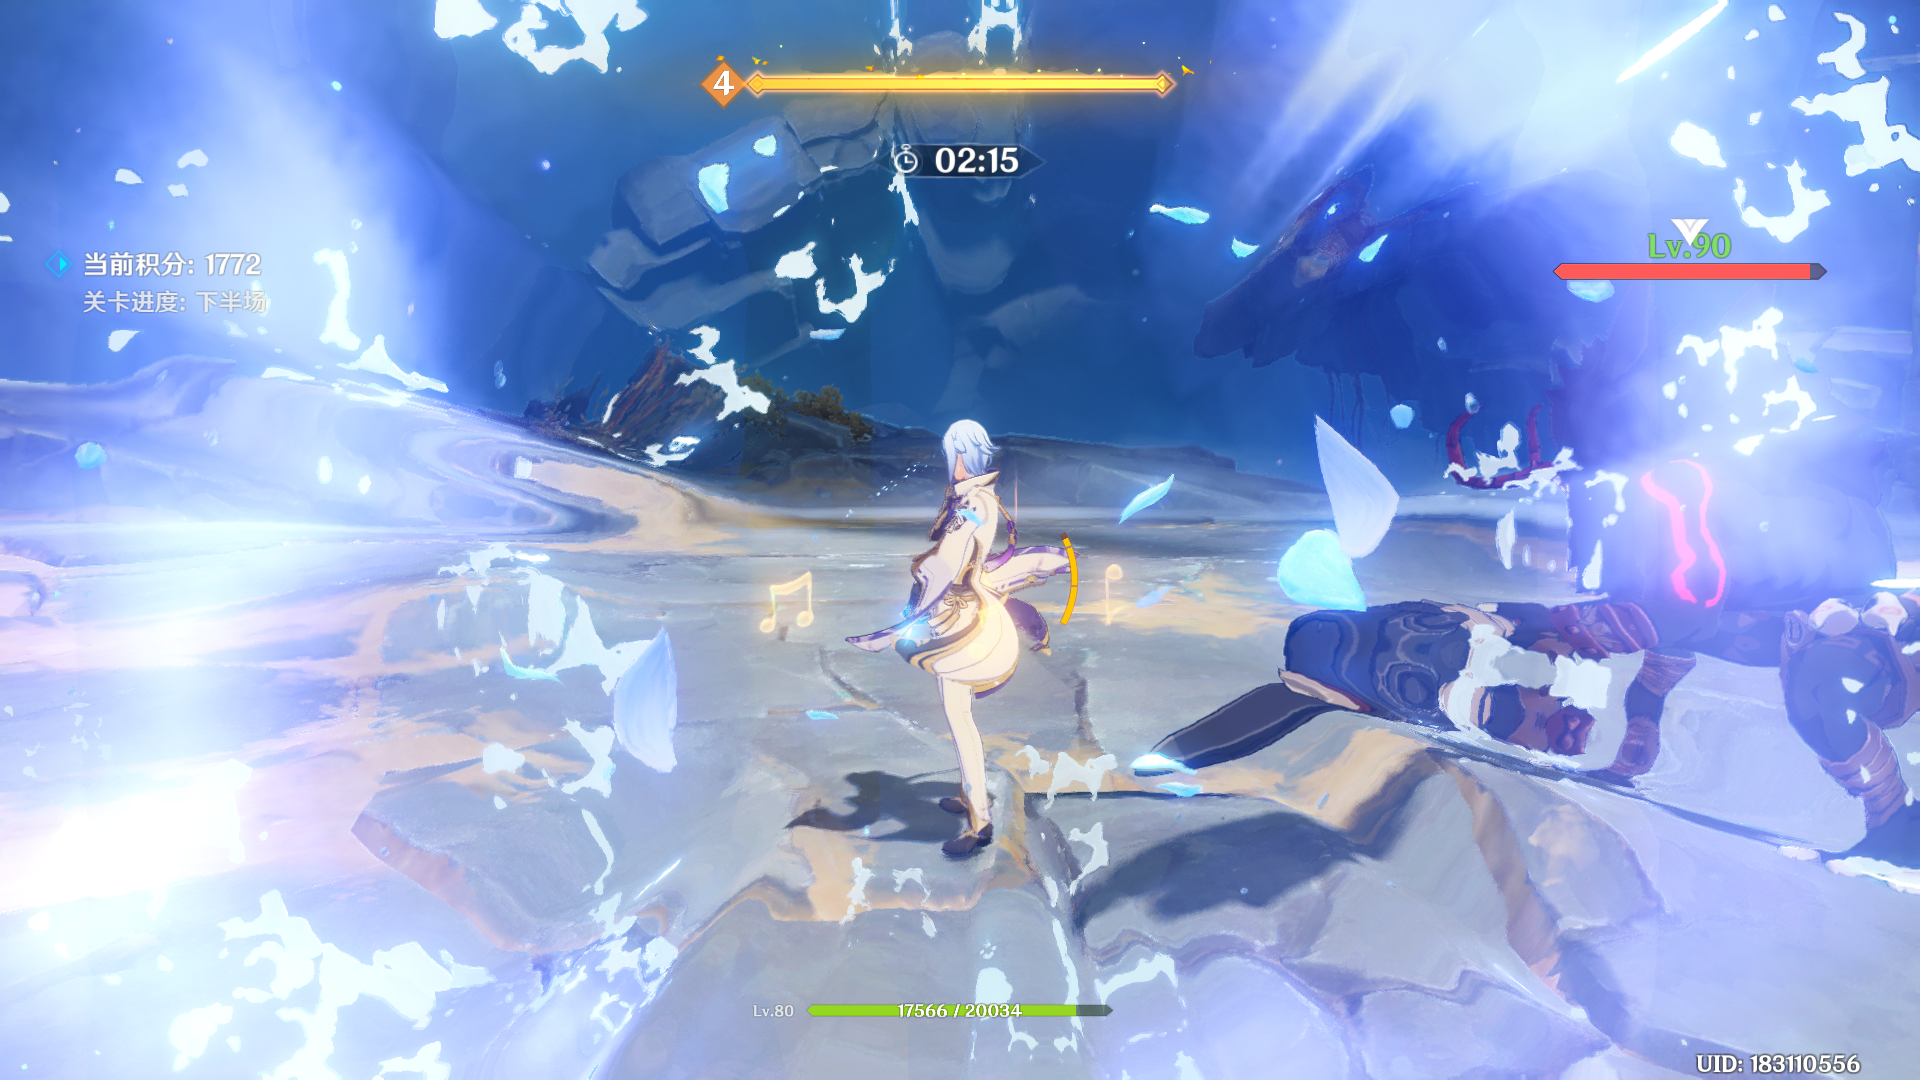bighili: (1255, 233, 1920, 910)
character: (829, 396, 1113, 894)
